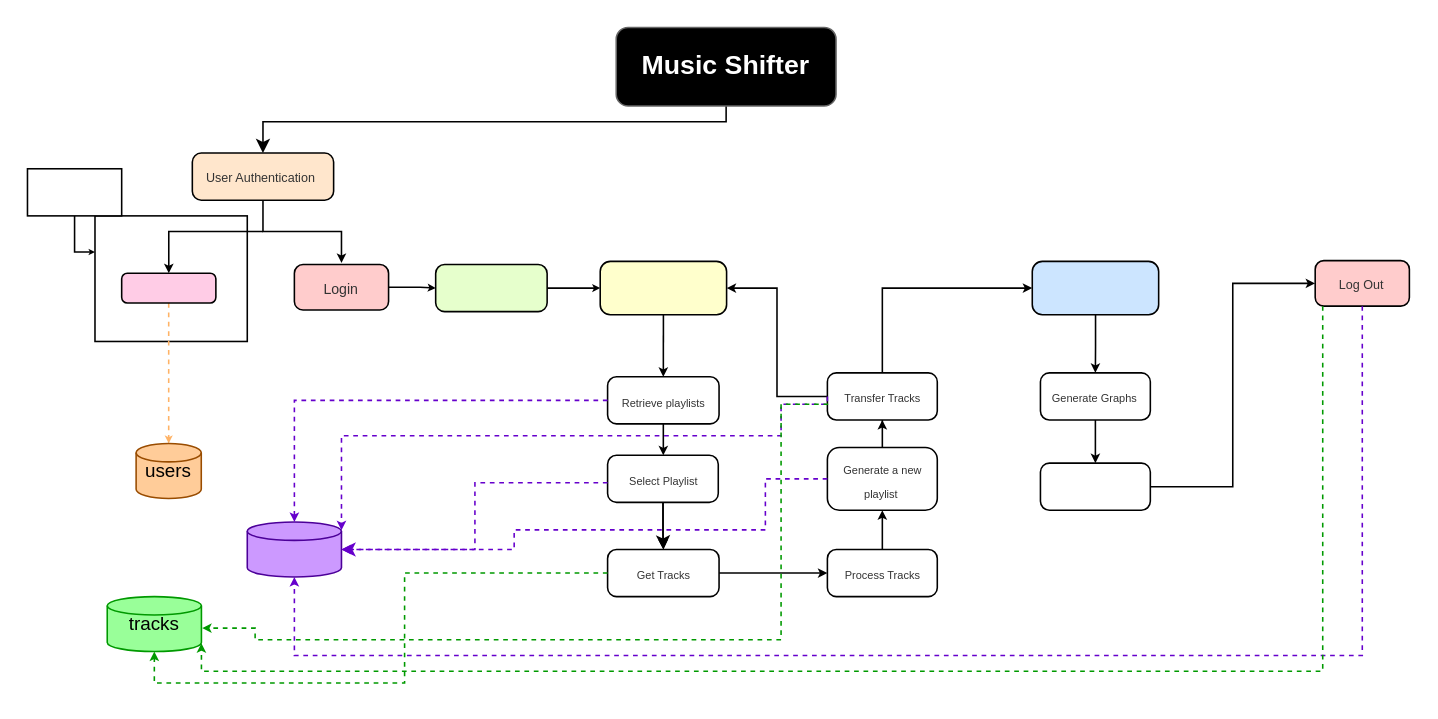
Some shapes in this 1438 by 719 pixel diagram are drawn without their labels. Each missing label, with the centre of its shape:
Display Graphs: the point at 1094,486
Get OAuth: the point at 490,287
If not logged in: the point at 74,191
Insights: the point at 1095,287
playlists: the point at 293,548
Register: the point at 168,287
Select Transfer way: the point at 663,287
